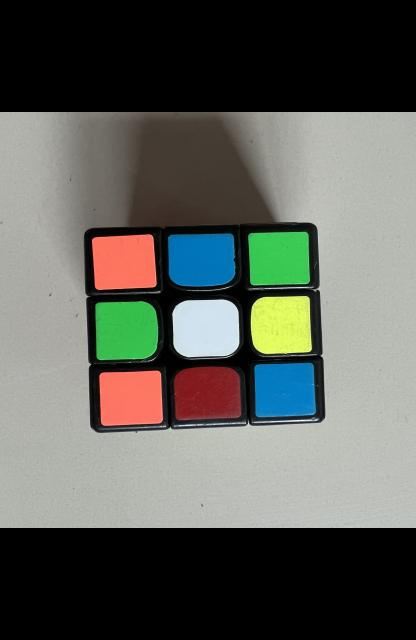Blue: (167, 233, 234, 286), (253, 362, 314, 418)
Green: (94, 302, 158, 360), (247, 231, 309, 285)
Orange: (90, 234, 156, 290), (98, 371, 162, 426)
Red: (173, 367, 240, 421)
White: (172, 299, 239, 358)
Yellow: (249, 296, 310, 354)
